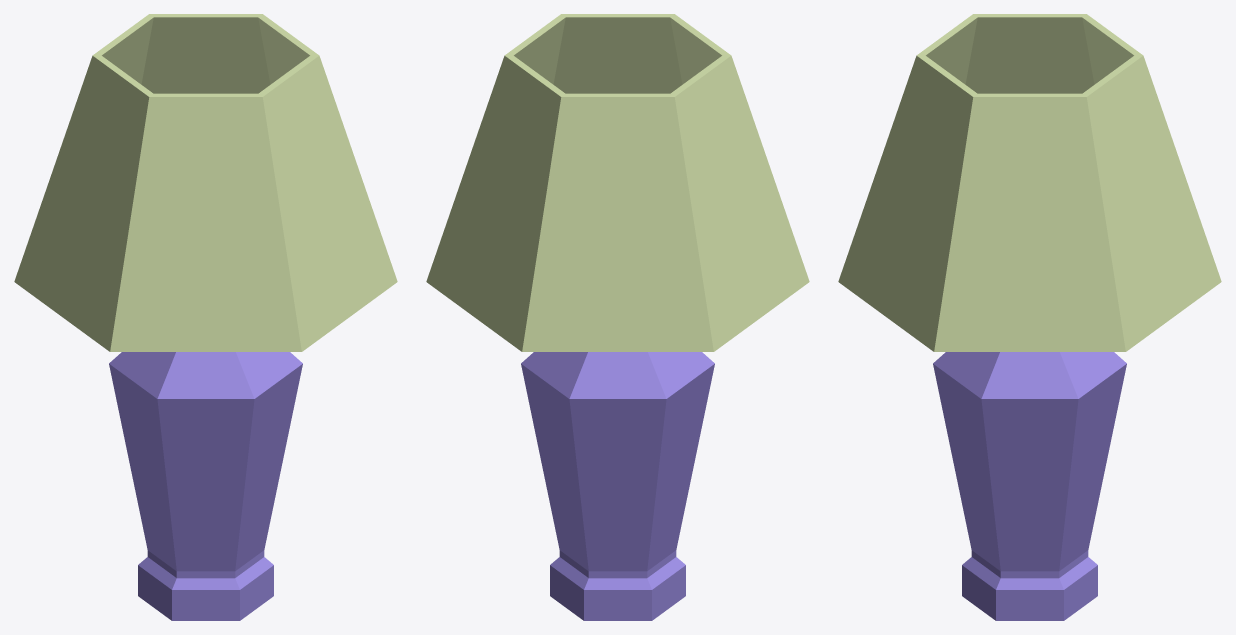
Rendered from lamp.gltf.
The picture shows the model from 3 angles, left to right: view 1: azimuth 30°, elevation 25°; view 2: azimuth 150°, elevation 25°; view 3: azimuth 270°, elevation 25°; orthographic projection.
Parts seen in each view (by area): view 1: Torus, Cylinder; view 2: Torus, Cylinder; view 3: Torus, Cylinder.
Boxes of the visible parts, <box> form: Torus: <box>14,14,397,351</box>; Cylinder: <box>109,352,302,620</box>; Torus: <box>426,14,809,351</box>; Cylinder: <box>521,352,714,620</box>; Torus: <box>838,14,1221,351</box>; Cylinder: <box>933,352,1126,620</box>.
Size of the model in its own units: 3.7 by 6.64 by 4.27.
